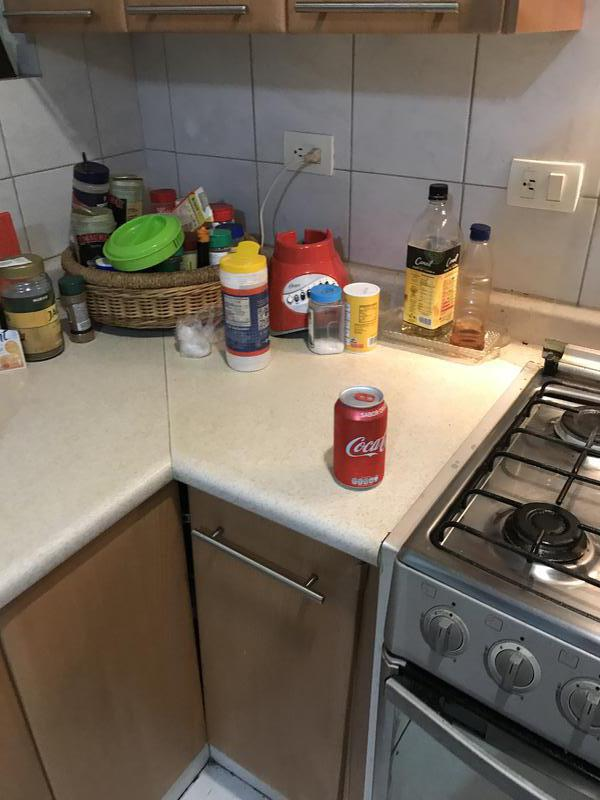coca_cola: (335, 385, 387, 492)
